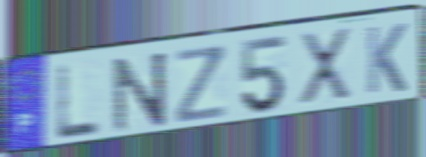5: (239, 33, 288, 116)
K: (364, 21, 409, 97)
L: (53, 61, 104, 143)
N: (111, 48, 170, 135)
X: (296, 25, 353, 107)
Z: (173, 42, 230, 126)
